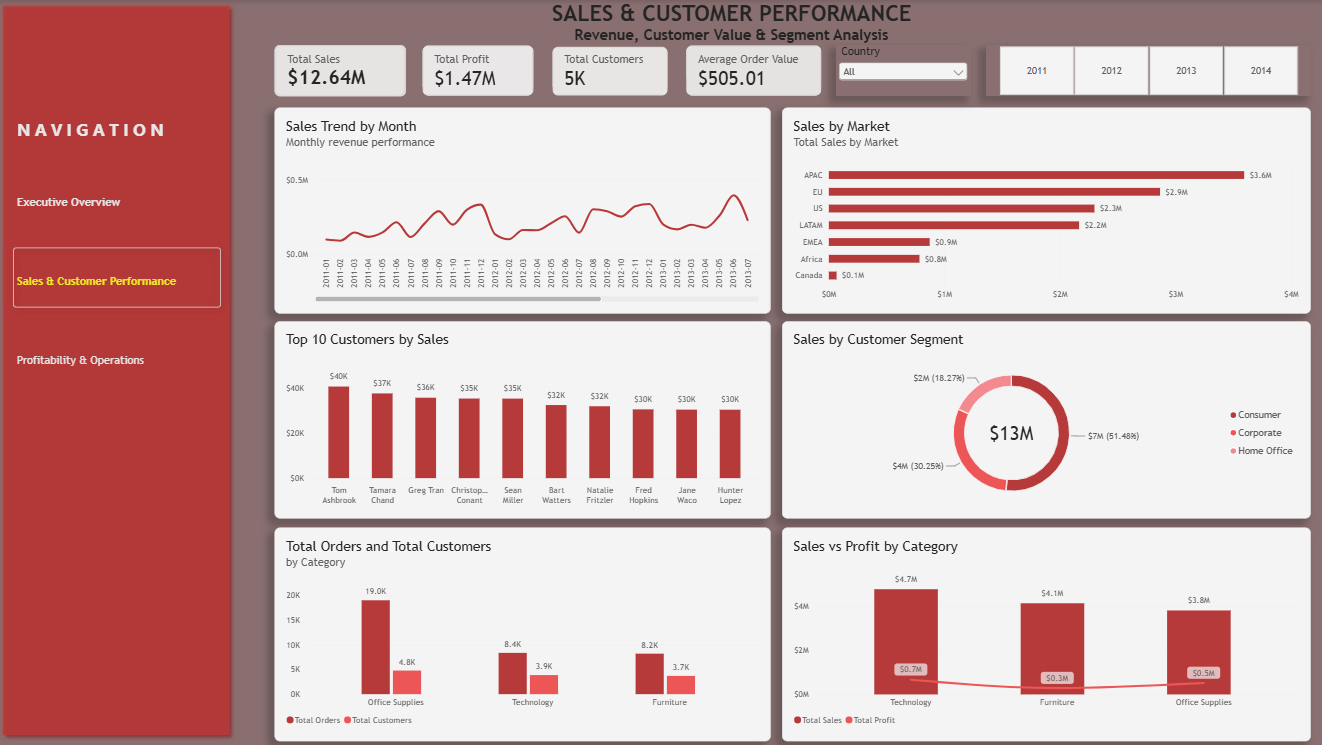

The page's visual inventory and layout, read from the dashboard file:
{"tool":"powerbi","page":{"name":"Sales & Customer Performance","canvas":[1920,1080],"ordinal":1},"visuals":[{"type":"textbox","box":[10.9,0,707.6,70.6],"z":0},{"type":"cardVisual","fields":{"Data":["_Measures.Total Sales"]},"box":[10.9,70.6,204.5,85.1],"z":1},{"type":"cardVisual","fields":{"Data":["_Measures.Total Profit"]},"box":[216.1,70,162.6,86.4],"z":2},{"type":"cardVisual","fields":{"Data":["_Measures.Total Customers"]},"box":[378.7,70,168.8,86.4],"z":3},{"type":"cardVisual","fields":{"Data":["_Measures.Average Order Value"]},"box":[547.5,70,197.6,86.4],"z":4},{"type":"slicer","title":"Year","fields":{"Values":["DimDate.Year"]},"box":[745.1,65.9,491.9,90.6],"z":5},{"type":"lineChart","title":"Sales Trend by Month","fields":{"Category":["DimDate.Year Month"],"Y":["_Measures.Total Sales"]},"box":[10.9,155.6,937.4,298.6],"z":6},{"type":"clusteredBarChart","title":"Sales by Market","fields":{"Category":["DimGeography.Market"],"Y":["_Measures.Total Sales"]},"box":[959.1,155.6,942.8,298.6],"z":7},{"type":"clusteredBarChart","title":"Top 10 Customers by Sales","fields":{"Category":["DimCustomer.Customer.Name"],"Y":["_Measures.Total Sales"]},"box":[10.9,465.1,937.4,298.6],"z":8},{"type":"donutChart","title":"Sales by Customer Segment","fields":{"Category":["DimCustomer.Segment"],"Y":["_Measures.Total Sales"]},"box":[959.1,465.1,942.8,298.6],"z":9},{"type":"lineClusteredColumnComboChart","title":"Sales vs Profit by Category","fields":{"Category":["DimProduct.Category"],"Y":["_Measures.Total Sales"],"Y2":["_Measures.Total Profit"]},"box":[10.9,774.5,1891.1,298.6],"z":10},{"type":"textbox","box":[1302.9,49.4,599,349.9],"z":11}]}

Visuals, with their boxes in screenshot pixels (x1, y1, x2, y2), scaled from the page's 1920x1080 canvas onto the 1322x745 screenshot:
textbox: select_region(8, 0, 495, 49)
cardVisual - _Measures.Total Sales: select_region(8, 49, 148, 107)
cardVisual - _Measures.Total Profit: select_region(149, 48, 261, 108)
cardVisual - _Measures.Total Customers: select_region(261, 48, 377, 108)
cardVisual - _Measures.Average Order Value: select_region(377, 48, 513, 108)
"Year" slicer: select_region(513, 45, 852, 108)
"Sales Trend by Month" lineChart: select_region(8, 107, 653, 313)
"Sales by Market" clusteredBarChart: select_region(660, 107, 1310, 313)
"Top 10 Customers by Sales" clusteredBarChart: select_region(8, 321, 653, 527)
"Sales by Customer Segment" donutChart: select_region(660, 321, 1310, 527)
"Sales vs Profit by Category" lineClusteredColumnComboChart: select_region(8, 534, 1310, 740)
textbox: select_region(897, 34, 1310, 275)
